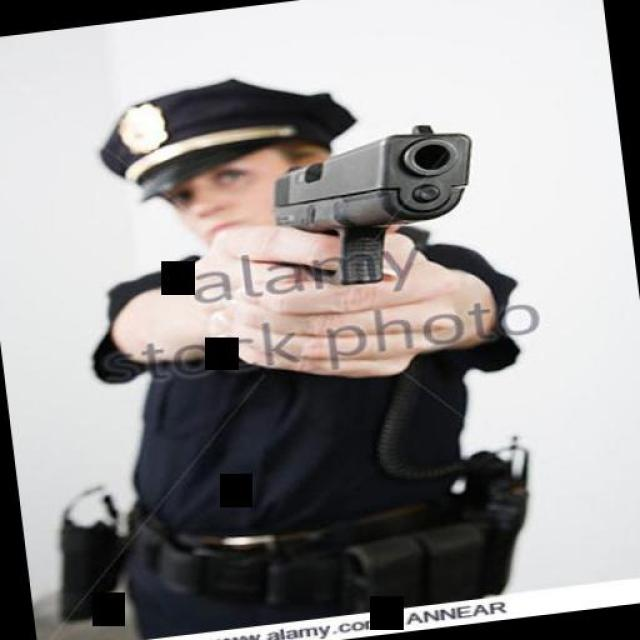gun: (258, 113, 492, 295)
